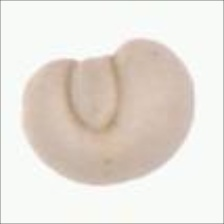L5: (65, 53, 124, 139), (79, 162, 162, 189)
L6: (21, 34, 197, 189)
